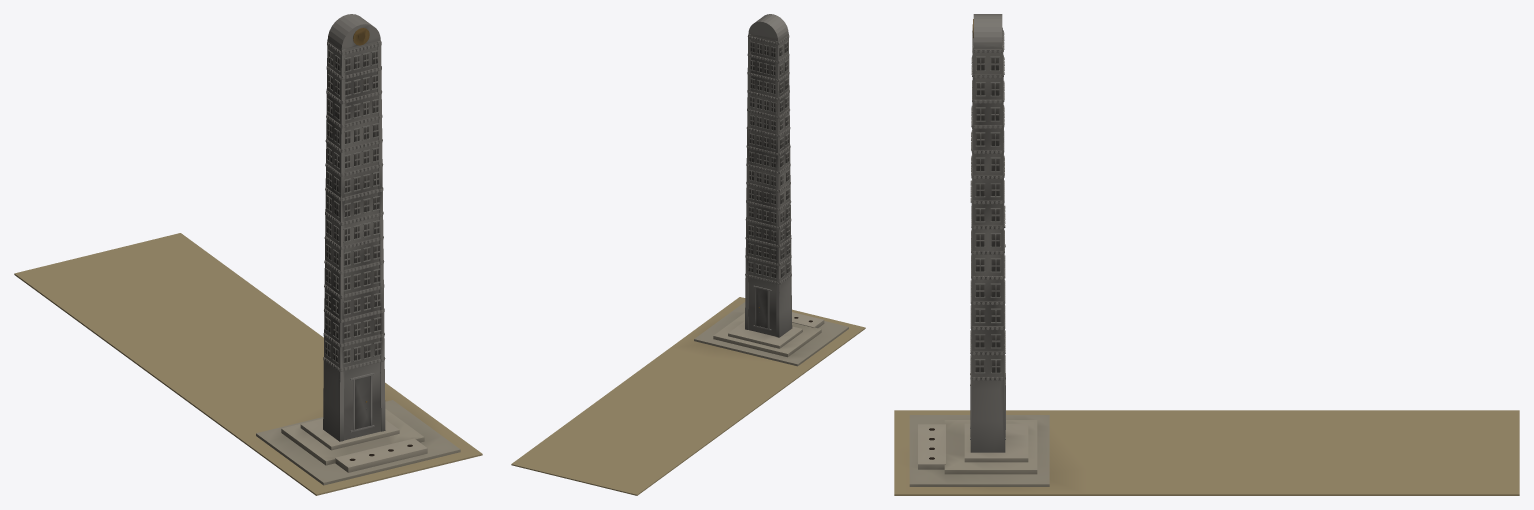
The model's file is great-stele.glb.
3 views of the same model, side by side, from view 1: azimuth 30°, elevation 25°; view 2: azimuth 150°, elevation 25°; view 3: azimuth 270°, elevation 25° (orthographic). The views are drawn at different scales.
Visible parts, largest first — view 1: p0_platform, p1_stele; view 2: p0_platform, p1_stele; view 3: p0_platform, p1_stele.
Boxes of the visible parts, <box> form: p0_platform: <box>14,233,482,495</box>; p1_stele: <box>323,14,385,441</box>; p0_platform: <box>511,297,865,495</box>; p1_stele: <box>745,14,792,337</box>; p0_platform: <box>894,410,1519,495</box>; p1_stele: <box>970,14,1005,452</box>.
Bounding box in the file's own units: 14 × 34.02 × 44.
